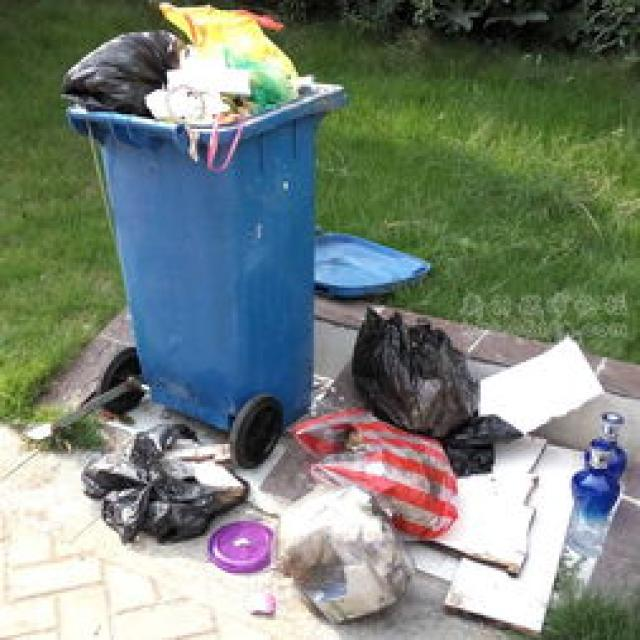garbage: (23, 305, 625, 628)
overflow: (53, 0, 344, 432)
